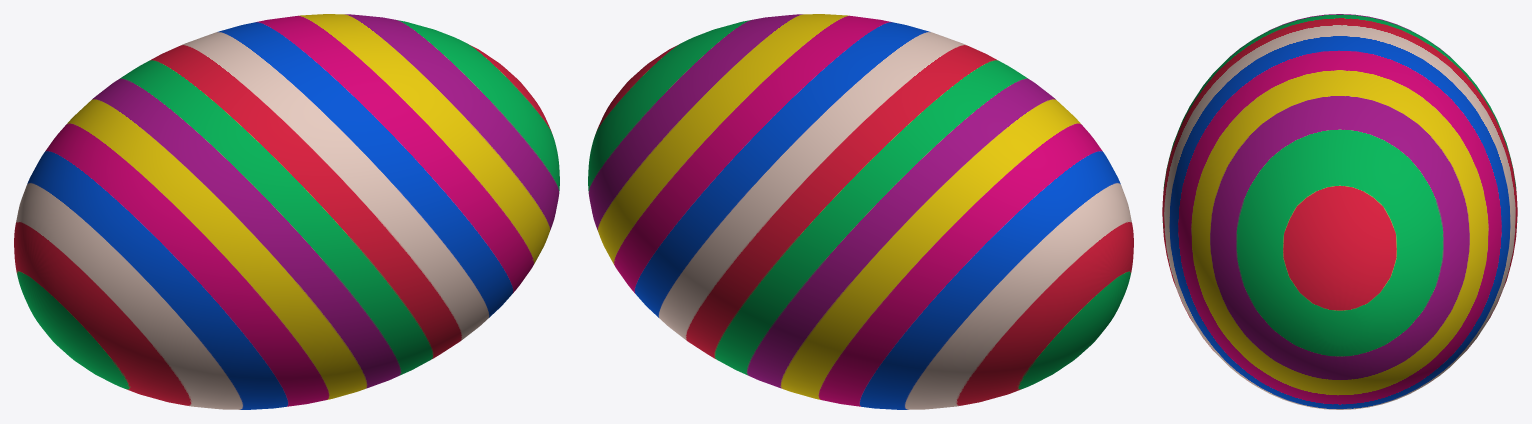
Rendered from A-9_Onstick.fbx.
3 views of the same model, side by side, from view 1: azimuth 30°, elevation 25°; view 2: azimuth 150°, elevation 25°; view 3: azimuth 270°, elevation 25° (orthographic). The views are drawn at different scales.
Visible parts, largest first — view 1: A-9; view 2: A-9; view 3: A-9.
Part boxes in pixels (box(x1,y1,x2,y2)): A-9: box(14, 14, 559, 409); A-9: box(588, 14, 1133, 409); A-9: box(1162, 14, 1517, 409).
Bounding box in the file's own units: 1.37 × 0.8898 × 0.8898.
1 material, 1 textured.
